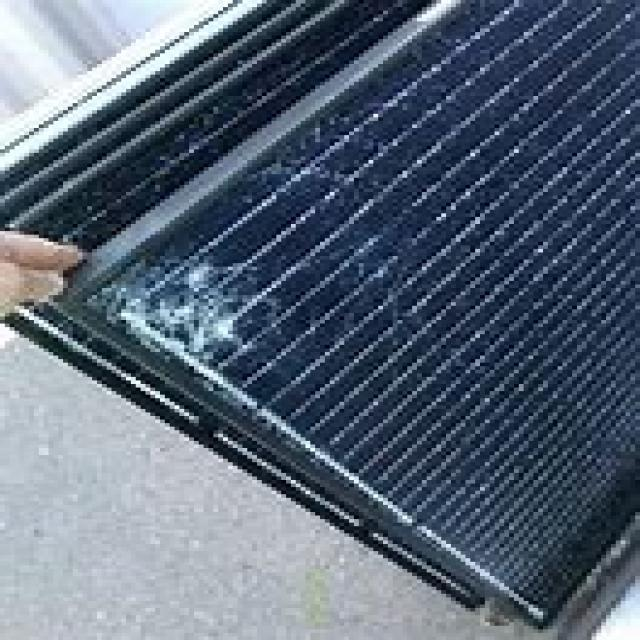faulty: (71, 0, 640, 633)
